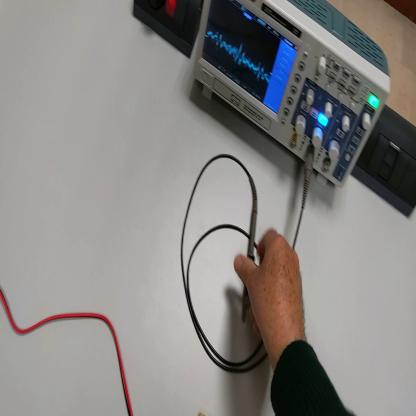hand: (236, 228, 306, 354)
oscilloscope: (195, 1, 391, 190)
oscilloscope probe tip: (244, 177, 261, 326)
socket: (132, 2, 205, 61)
